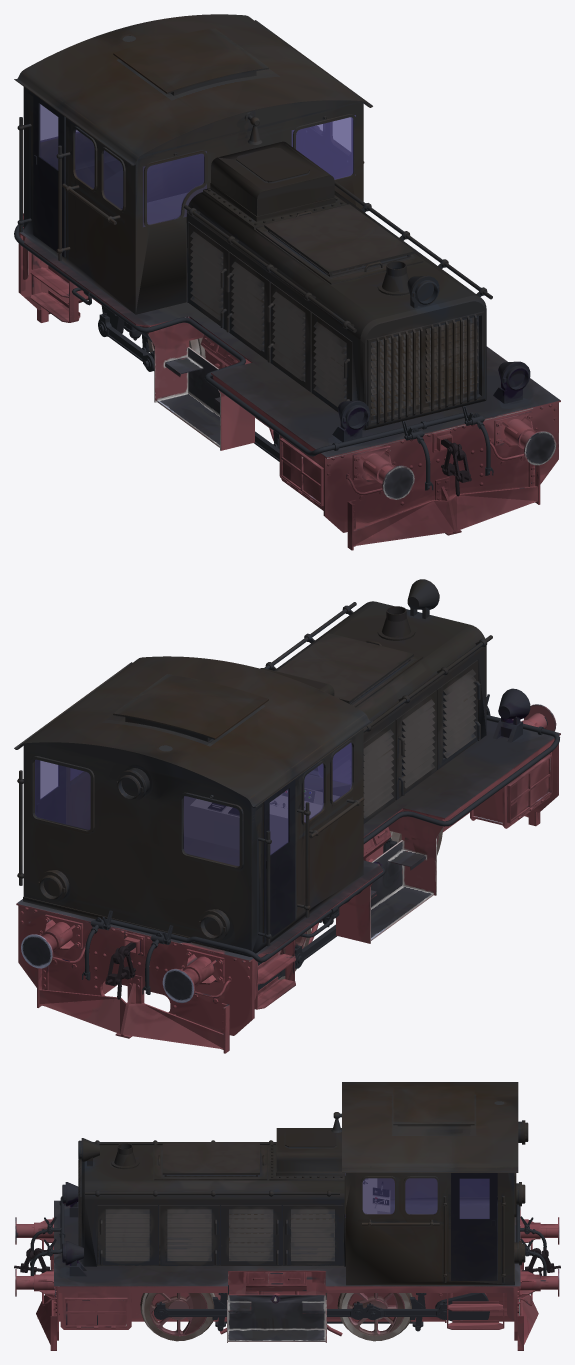
Rendered from FrontSide_Train.fbx.
3 views of the same model, one above another, from view 1: azimuth 30°, elevation 25°; view 2: azimuth 150°, elevation 25°; view 3: azimuth 270°, elevation 25° (orthographic). The views are drawn at different scales.
Parts seen in each view (by area): view 1: Vozic, Glass.001, SystemBreaksEtc, DoorRight, Glass.003; view 2: Vozic, Glass.001, SystemBreaksEtc, DoorRight, ControPanel, DoorLeft; view 3: Vozic, DoorLeft, SystemBreaksEtc, Glass.001, FontLeftWheel, BackLeftWheel, ControPanel, DoorRight.
Part boxes in pixels (<box>): Vozic: <box>14,14,560,550</box>; Glass.001: <box>40,105,355,226</box>; SystemBreaksEtc: <box>14,224,493,490</box>; DoorRight: <box>33,94,65,257</box>; Glass.003: <box>292,115,355,179</box>; Vozic: <box>14,579,560,1053</box>; Glass.001: <box>35,743,352,866</box>; SystemBreaksEtc: <box>82,694,559,994</box>; DoorRight: <box>263,779,295,942</box>; ControPanel: <box>184,788,339,854</box>; DoorLeft: <box>35,759,65,823</box>; Vozic: <box>15,1082,559,1350</box>; DoorLeft: <box>451,1173,497,1280</box>; SystemBreaksEtc: <box>30,1196,546,1331</box>; Glass.001: <box>362,1178,437,1214</box>; FontLeftWheel: <box>140,1293,215,1341</box>; BackLeftWheel: <box>337,1293,412,1341</box>; ControPanel: <box>362,1178,390,1213</box>; DoorRight: <box>459,1178,489,1196</box>.
Bounding box in the file's own units: 13420 × 14820 × 33480.
